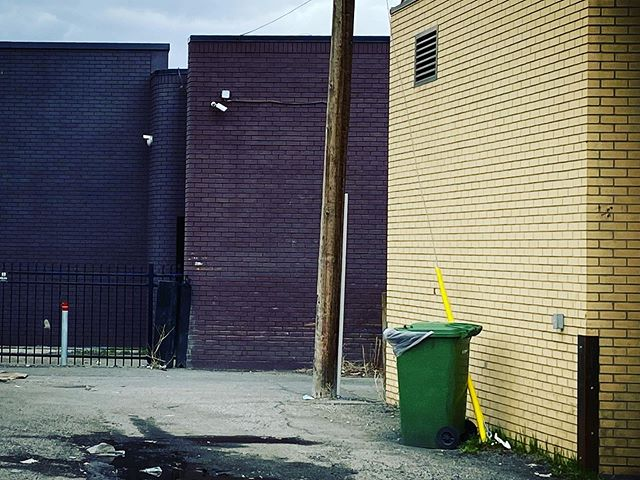building: (378, 1, 640, 391), (176, 29, 394, 371), (1, 35, 195, 370)
street: (1, 373, 410, 480)
trash can: (383, 316, 484, 447)
